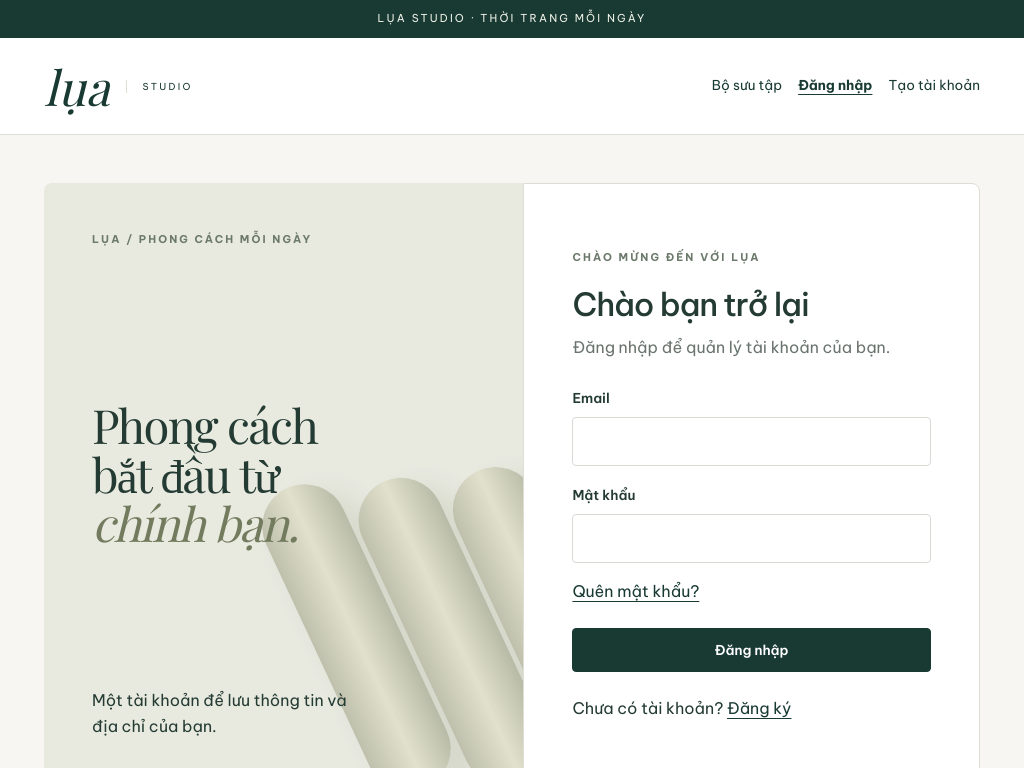
Test: đăng nhập gửi thông tin đến API và hiển thị hồ sơ
The image size is (1024, 768).
Type "an@example.com" into the field labelled "Email" at [752, 442], box [572,417,931,466]
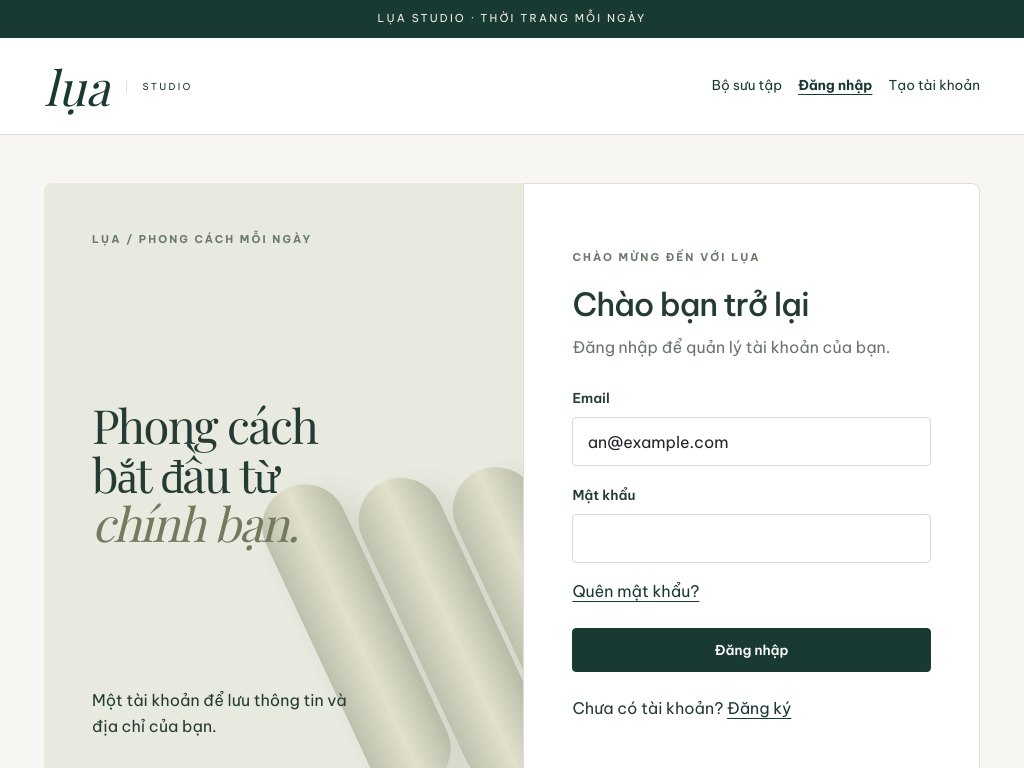
Type "test-password" into the password field labelled "Mật khẩu" at [752, 539], box [572,514,931,563]
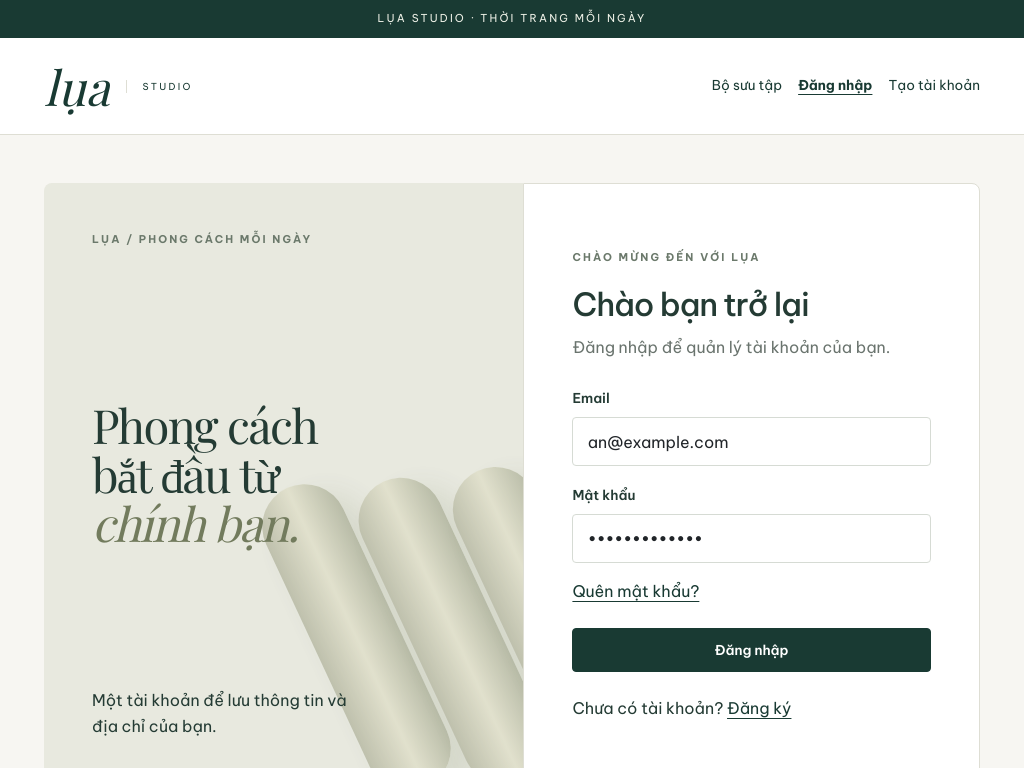
Click the button "Đăng nhập" at [752, 650], box [572,628,931,672]
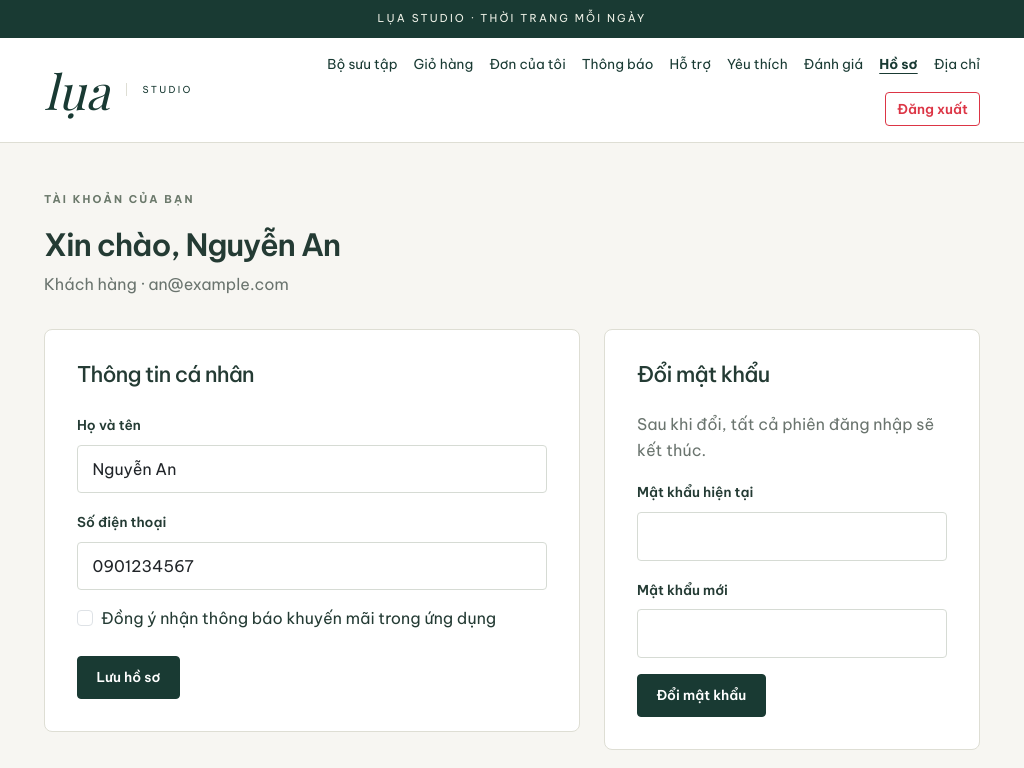
Expected: the heading "Xin chào, Nguyễn An" is shown, [44,225,340,264]
